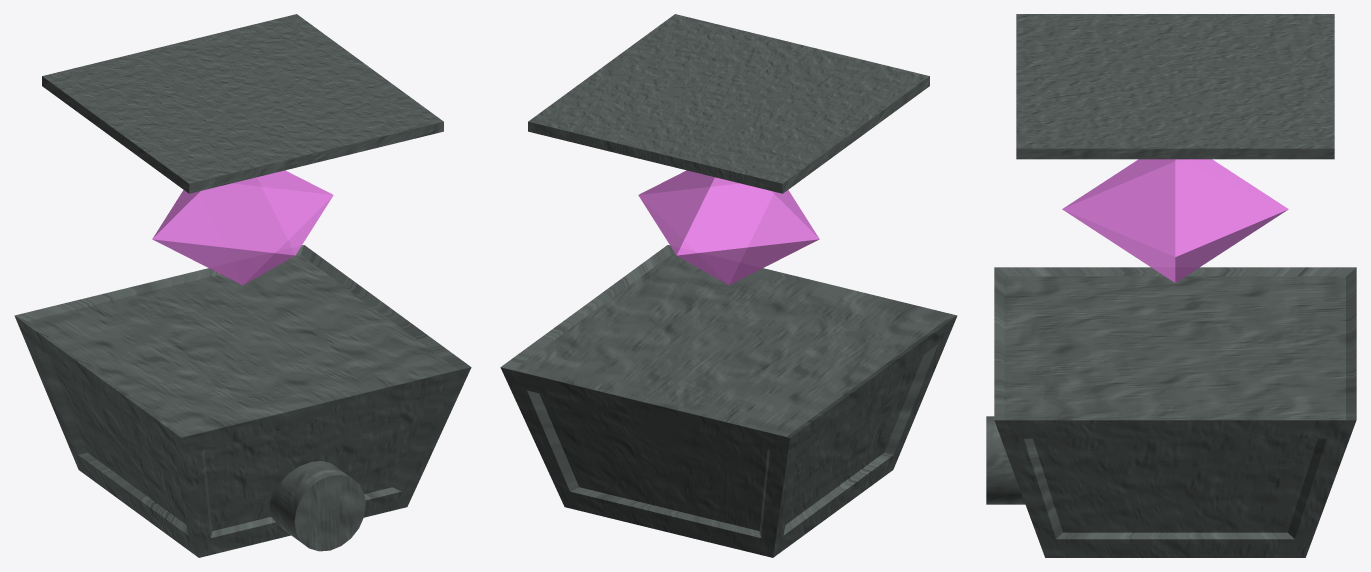
Rendered from Electrical_equipment_on01.fbx.
3 renders of one model, left to right at view 1: azimuth 30°, elevation 25°; view 2: azimuth 150°, elevation 25°; view 3: azimuth 270°, elevation 25°, orthographic. The views are drawn at different scales.
Parts seen in each view (by area): view 1: pCube3, pCone6, pCone3, pCylinder4; view 2: pCube3, pCone6, pCone3; view 3: pCube3, pCone6, pCone3, pCylinder4.
Part boxes in pixels (left/top/right/bottom): pCube3: left=14, top=245, right=471, bottom=557; pCone6: left=42, top=14, right=443, bottom=193; pCone3: left=152, top=170, right=333, bottom=285; pCylinder4: left=269, top=461, right=365, bottom=551; pCube3: left=500, top=245, right=957, bottom=557; pCone6: left=528, top=14, right=929, bottom=193; pCone3: left=638, top=170, right=819, bottom=285; pCube3: left=994, top=267, right=1356, bottom=557; pCone6: left=1016, top=14, right=1334, bottom=159; pCone3: left=1062, top=159, right=1288, bottom=282; pCylinder4: left=986, top=416, right=1025, bottom=504.
Size of the model in its own units: 12.18 by 15.64 by 12.44.
4 materials, 3 textured.
